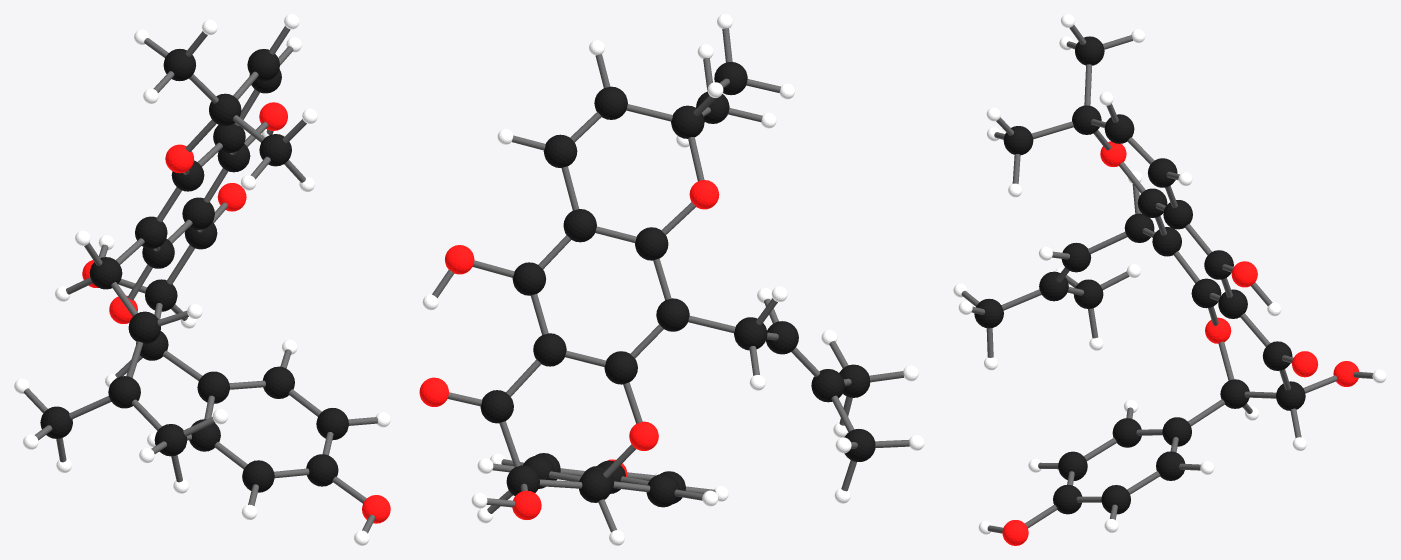
Rendered from molecule.glb.
3 views of the same model, side by side, from view 1: azimuth 30°, elevation 25°; view 2: azimuth 150°, elevation 25°; view 3: azimuth 270°, elevation 25° (orthographic). The views are drawn at different scales.
Parts seen in each view (by area): view 1: geometry_1, geometry_3, geometry_17, geometry_20, geometry_14, geometry_16, geometry_5, geometry_10, geometry_19, geometry_26, geometry_21, geometry_27 (+17 smaller); view 2: geometry_5, geometry_10, geometry_6, geometry_11, geometry_7, geometry_8, geometry_26, geometry_23, geometry_25, geometry_1, geometry_13, geometry_15 (+13 smaller); view 3: geometry_13, geometry_15, geometry_28, geometry_17, geometry_20, geometry_26, geometry_1, geometry_7, geometry_10, geometry_29, geometry_14, geometry_5 (+16 smaller).
Boxes of the visible parts, x1=… form: geometry_1: x1=108, y1=376, x2=140, y2=408; geometry_3: x1=128, y1=311, x2=160, y2=343; geometry_17: x1=306, y1=454, x2=338, y2=486; geometry_20: x1=263, y1=366, x2=294, y2=398; geometry_14: x1=197, y1=371, x2=229, y2=403; geometry_16: x1=242, y1=460, x2=274, y2=492; geometry_5: x1=135, y1=216, x2=167, y2=248; geometry_10: x1=182, y1=197, x2=214, y2=229; geometry_19: x1=316, y1=408, x2=348, y2=440; geometry_26: x1=247, y1=49, x2=279, y2=81; geometry_21: x1=145, y1=279, x2=177, y2=311; geometry_27: x1=209, y1=93, x2=241, y2=125; geometry_5: x1=656, y1=298, x2=689, y2=331; geometry_10: x1=533, y1=333, x2=566, y2=366; geometry_6: x1=635, y1=227, x2=668, y2=260; geometry_11: x1=604, y1=351, x2=637, y2=384; geometry_7: x1=563, y1=209, x2=596, y2=242; geometry_8: x1=512, y1=262, x2=545, y2=295; geometry_26: x1=594, y1=86, x2=627, y2=119; geometry_23: x1=480, y1=390, x2=513, y2=423; geometry_25: x1=543, y1=134, x2=577, y2=167; geometry_1: x1=811, y1=369, x2=844, y2=402; geometry_13: x1=579, y1=469, x2=611, y2=502; geometry_15: x1=646, y1=474, x2=679, y2=507; geometry_13: x1=1220, y1=379, x2=1249, y2=408; geometry_15: x1=1112, y1=418, x2=1141, y2=447; geometry_28: x1=1075, y1=36, x2=1104, y2=65; geometry_17: x1=1053, y1=485, x2=1082, y2=514; geometry_20: x1=1156, y1=451, x2=1185, y2=480; geometry_26: x1=1104, y1=114, x2=1134, y2=143; geometry_1: x1=1039, y1=271, x2=1068, y2=301; geometry_7: x1=1163, y1=200, x2=1192, y2=229; geometry_10: x1=1218, y1=289, x2=1247, y2=318; geometry_29: x1=1003, y1=126, x2=1033, y2=154; geometry_14: x1=1162, y1=417, x2=1191, y2=446; geometry_5: x1=1152, y1=227, x2=1181, y2=256.
Bounding box in the file's own units: 0.2042 × 0.257 × 0.2138.
